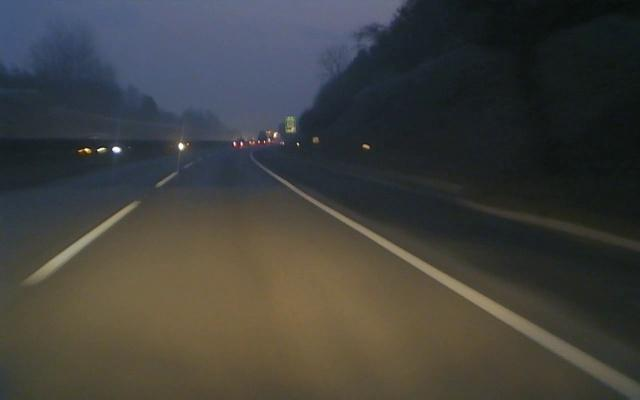lane: (288, 185, 640, 400), (25, 172, 179, 281)
